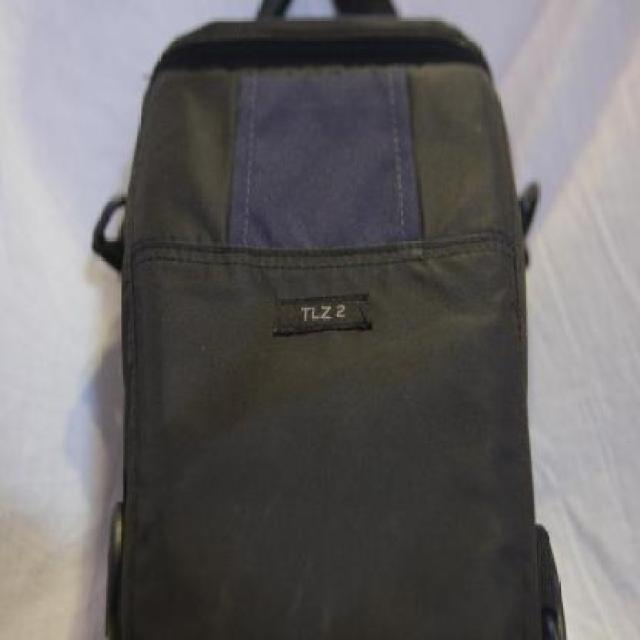backpack: (92, 0, 574, 640)
